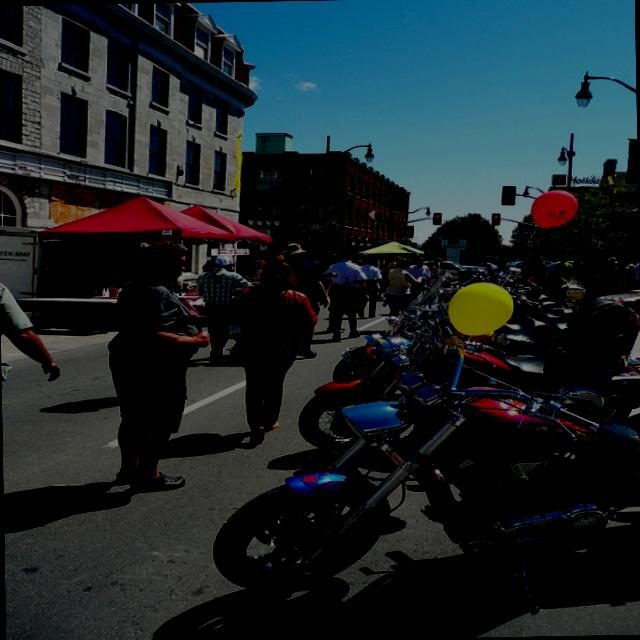Vehicle: (191, 328, 640, 630), (293, 283, 640, 450), (541, 362, 640, 423), (508, 286, 572, 322), (330, 349, 392, 381), (462, 262, 528, 290)
